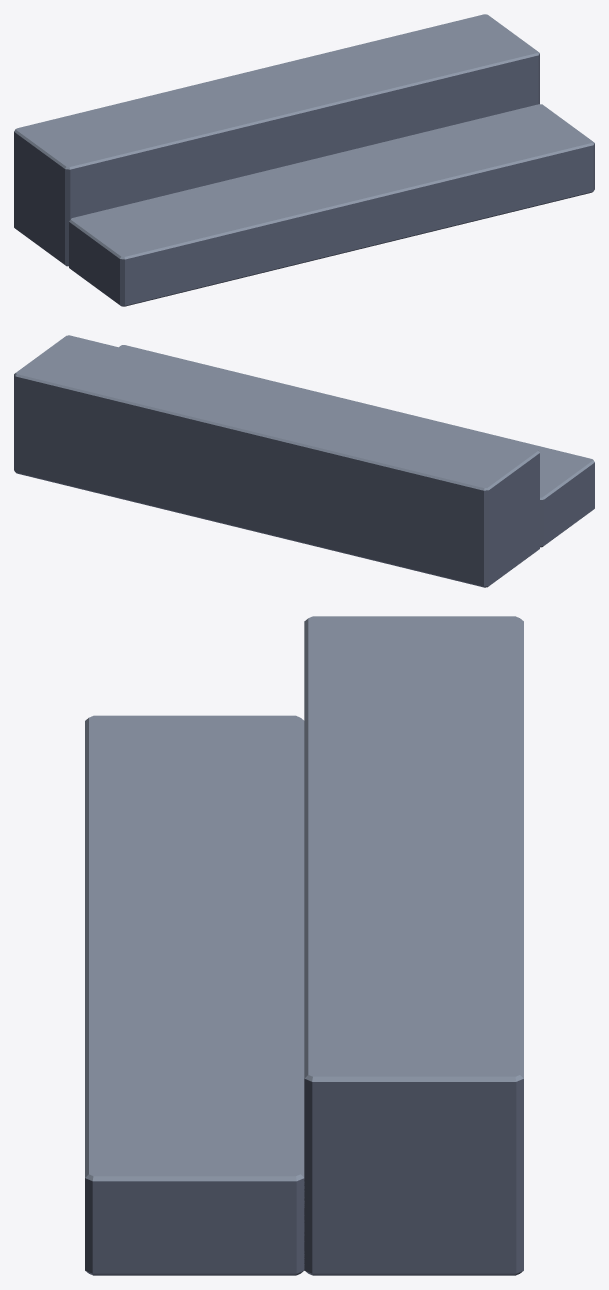
The model's file is stair-short.glb.
3 renders of one model, top to bottom at view 1: azimuth 30°, elevation 25°; view 2: azimuth 150°, elevation 25°; view 3: azimuth 270°, elevation 25°, orthographic. The views are drawn at different scales.
Parts seen in each view (by area): view 1: stair-short__body; view 2: stair-short__body; view 3: stair-short__body.
Part boxes in pixels (<box>): stair-short__body: <box>14,14,594,306</box>; stair-short__body: <box>14,335,594,587</box>; stair-short__body: <box>85,616,523,1275</box>.
Size of the model in its own units: 2 by 0.4 by 0.8.
